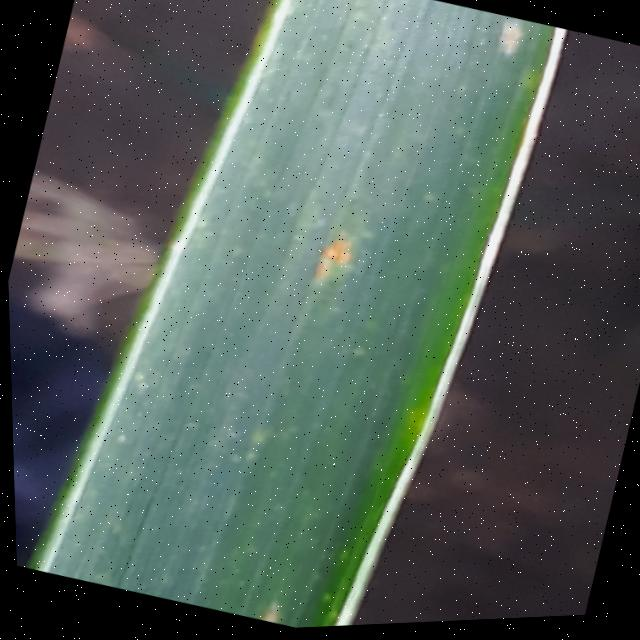orang_rust: (32, 0, 590, 639)
